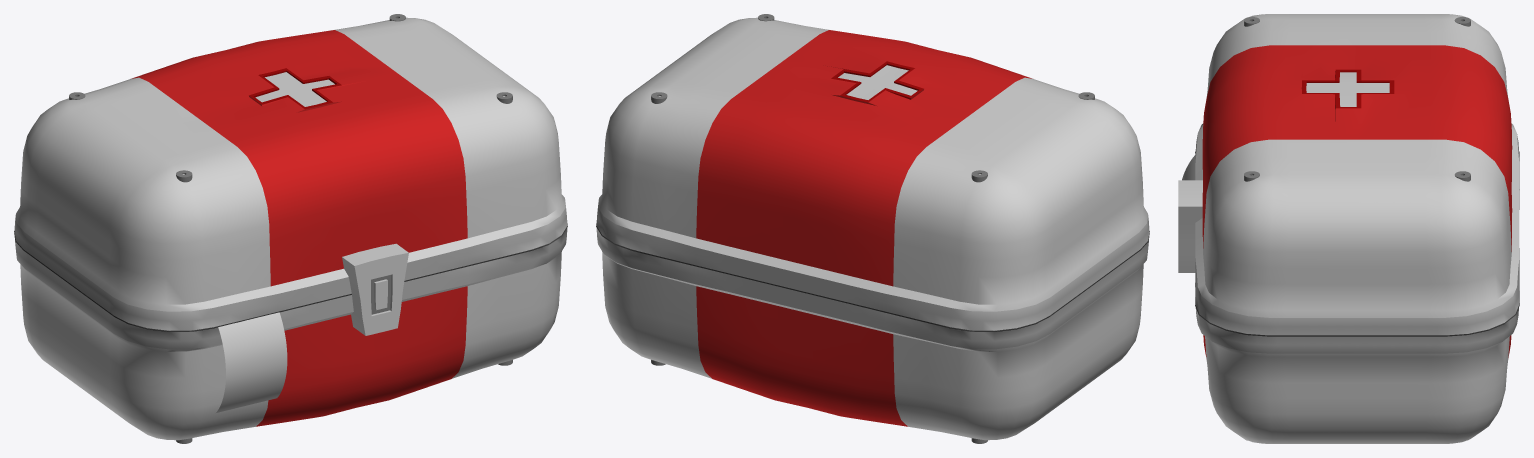
The model's file is med kit.fbx.
3 views of the same model, side by side, from view 1: azimuth 30°, elevation 25°; view 2: azimuth 150°, elevation 25°; view 3: azimuth 270°, elevation 25° (orthographic).
Parts seen in each view (by area): view 1: med_kit; view 2: med_kit; view 3: med_kit.
Boxes of the visible parts, bbox=[...] form: med_kit: bbox=[14, 14, 567, 443]; med_kit: bbox=[596, 14, 1149, 443]; med_kit: bbox=[1178, 14, 1519, 443].
Bounding box in the file's own units: 328 × 203 × 221.
